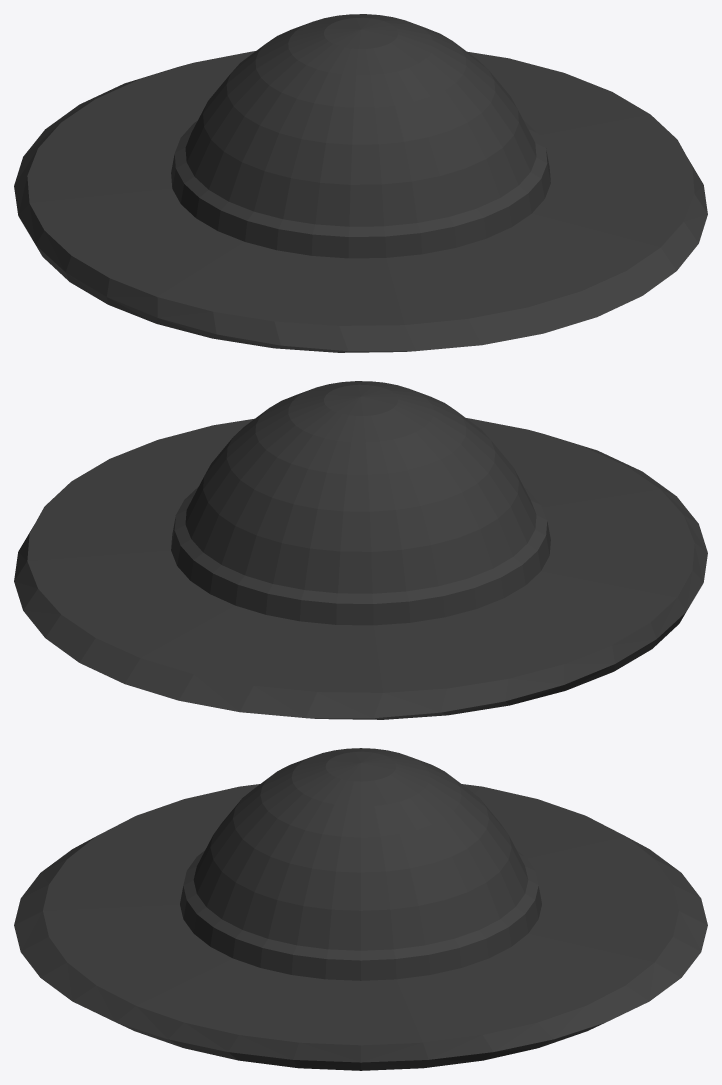
Rendered from boss.obj.
The picture shows the model from 3 angles, top to bottom: view 1: azimuth 30°, elevation 25°; view 2: azimuth 150°, elevation 25°; view 3: azimuth 270°, elevation 25°; orthographic projection. The views are drawn at different scales.
Parts seen in each view (by area): view 1: 球; view 2: 球; view 3: 球.
Boxes of the visible parts, left/top/right/bottom form: 球: left=14, top=14, right=707, bottom=352; 球: left=14, top=381, right=707, bottom=719; 球: left=14, top=748, right=707, bottom=1070.
Bounding box in the file's own units: 132 × 55.83 × 141.
1 material, 1 textured.
